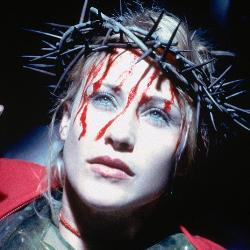face: (17, 3, 239, 213)
